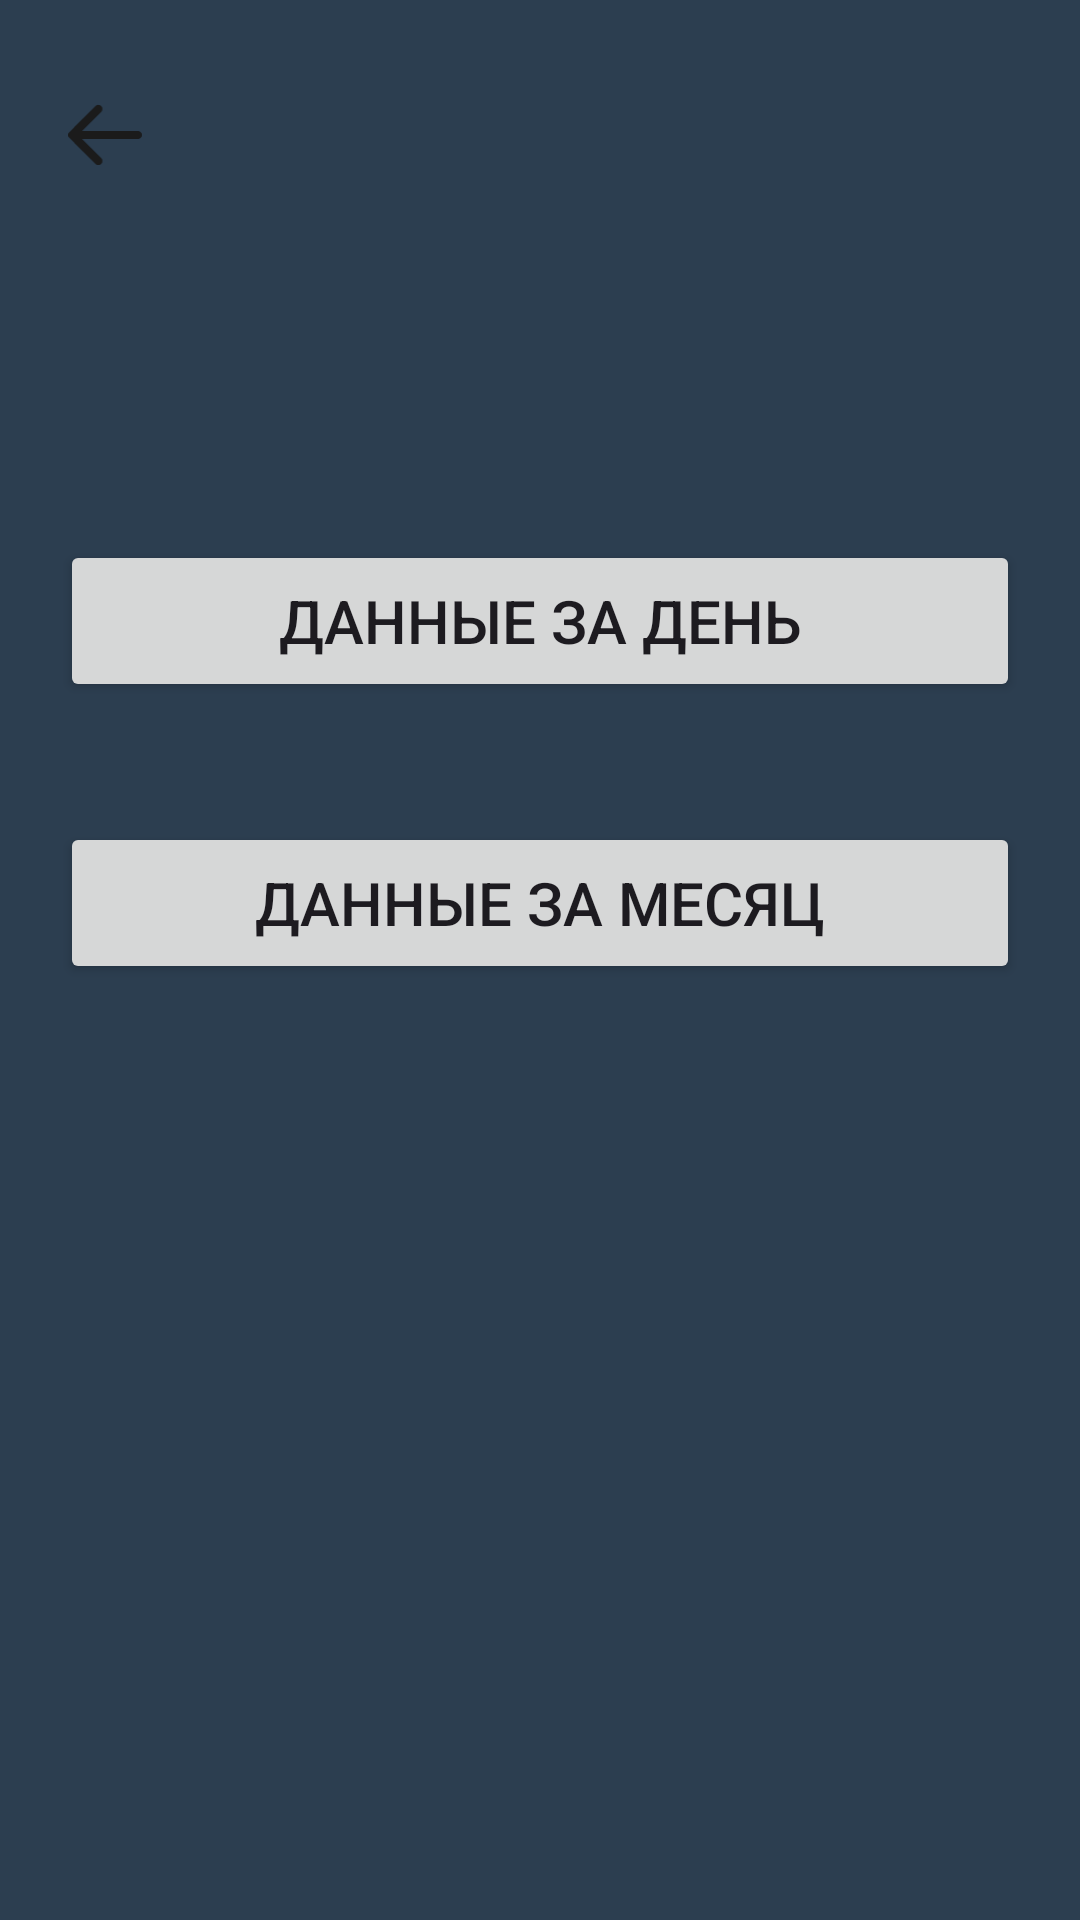

Screen size 1080px x 1920px. Icon name, then its box in pixels as [x1=x1, y1=y1, x2=x2, y2=y2]:
navbar left: [x1=68, y1=105, x2=142, y2=165]
